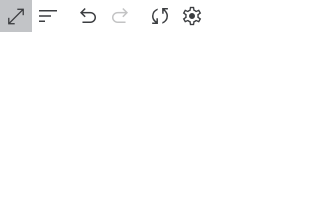
Test: the sort menu › offers the four orders
The width and height of the screenshot is (320, 204).
Click the button named "Sort sessions". click: point(48, 16)
box: 36,2 -> 60,30
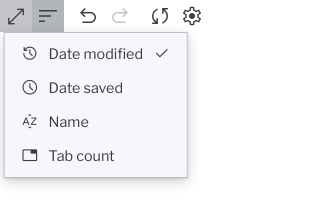
Check: the number of menu items is 4, box 9,37 -> 183,71; 9,71 -> 183,105; 9,105 -> 183,139; 9,139 -> 183,173
Check: the menu item "Date saved" is shown, box 9,71 -> 183,105
Check: the menu item "Name" is shown, box 9,105 -> 183,139
